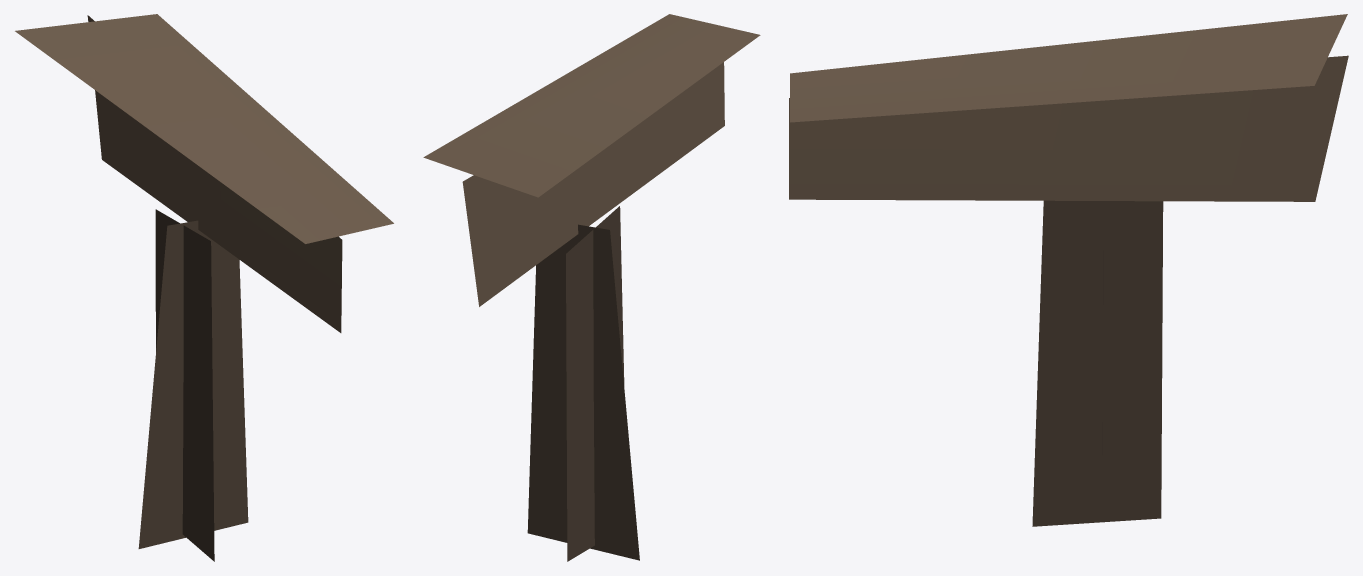
File: vigne-lod0.glb
The picture shows the model from 3 angles, left to right: view 1: azimuth 30°, elevation 25°; view 2: azimuth 150°, elevation 25°; view 3: azimuth 270°, elevation 25°; orthographic projection. The views are drawn at different scales.
Parts seen in each view (by area): view 1: Cube; view 2: Cube; view 3: Cube.
Boxes of the visible parts, box(x1,y1,x2,y2) form: Cube: box(15, 14, 393, 561); Cube: box(423, 14, 760, 561); Cube: box(789, 14, 1348, 526).
Size of the model in its own units: 2.33 by 7.66 by 8.05.
